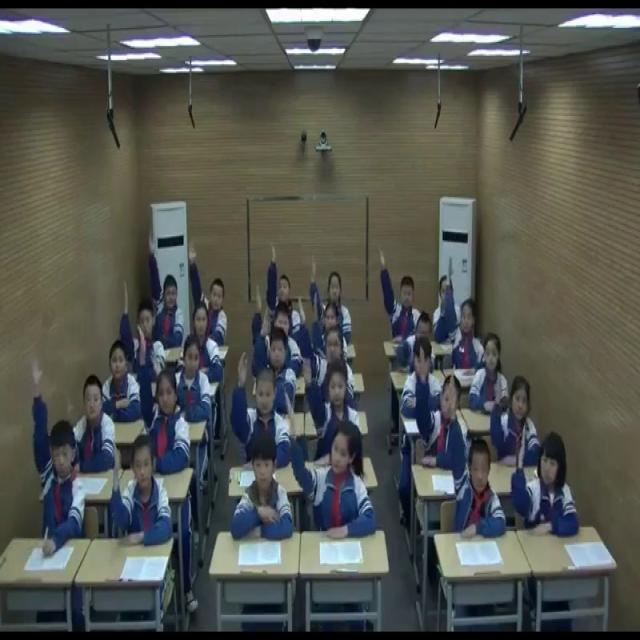focused: (228, 432, 296, 552), (68, 370, 121, 476), (402, 336, 448, 418), (174, 337, 215, 424), (188, 296, 226, 388), (469, 330, 510, 414), (102, 342, 142, 421)
raising_hand: (283, 392, 376, 540), (30, 355, 86, 559), (447, 365, 508, 542), (510, 425, 582, 544), (133, 324, 191, 471), (294, 294, 357, 413), (111, 433, 173, 546), (415, 348, 468, 479), (230, 354, 291, 466), (297, 353, 360, 461), (487, 367, 542, 471), (374, 244, 426, 347), (250, 308, 298, 417), (145, 232, 186, 353), (185, 236, 229, 348), (252, 288, 304, 382), (306, 252, 354, 340), (119, 279, 162, 372), (266, 245, 303, 338), (435, 252, 463, 346), (309, 292, 348, 359)
